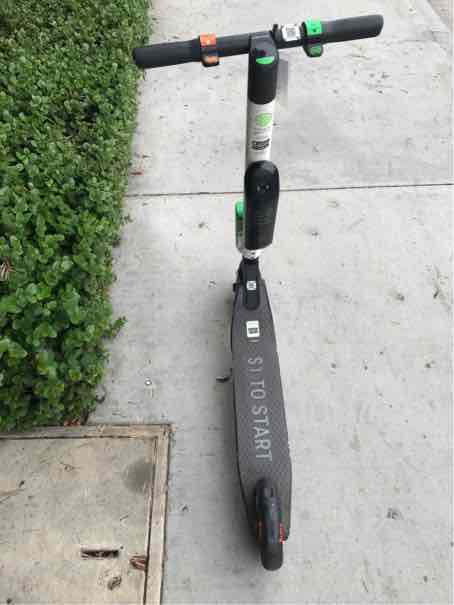scooter: (125, 11, 401, 592)
